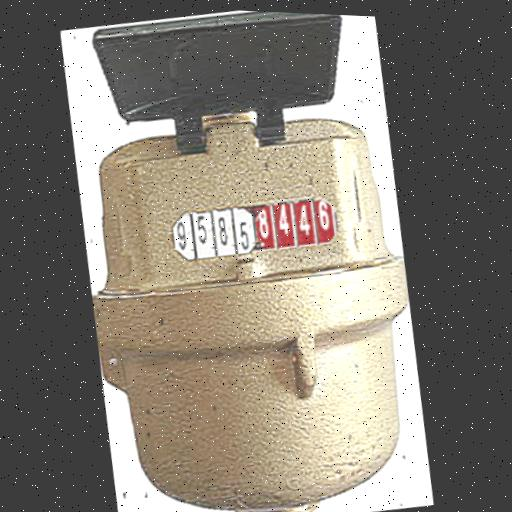4: (292, 198, 318, 246), (273, 200, 297, 248)
5: (191, 210, 218, 258), (232, 205, 258, 254)
6: (313, 196, 342, 243)
8: (210, 207, 237, 256), (252, 202, 277, 251)
9: (168, 212, 195, 261)
border_water_meter_number: (167, 187, 343, 269)
